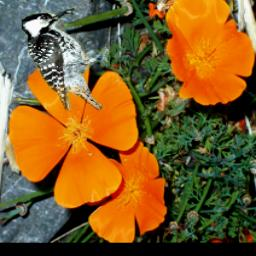Woodpecker: (22, 6, 109, 110)
